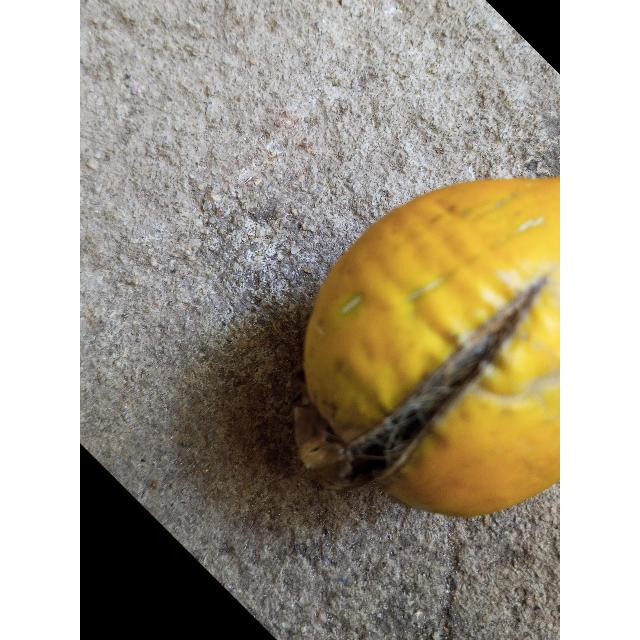damaged: (302, 176, 560, 520)
